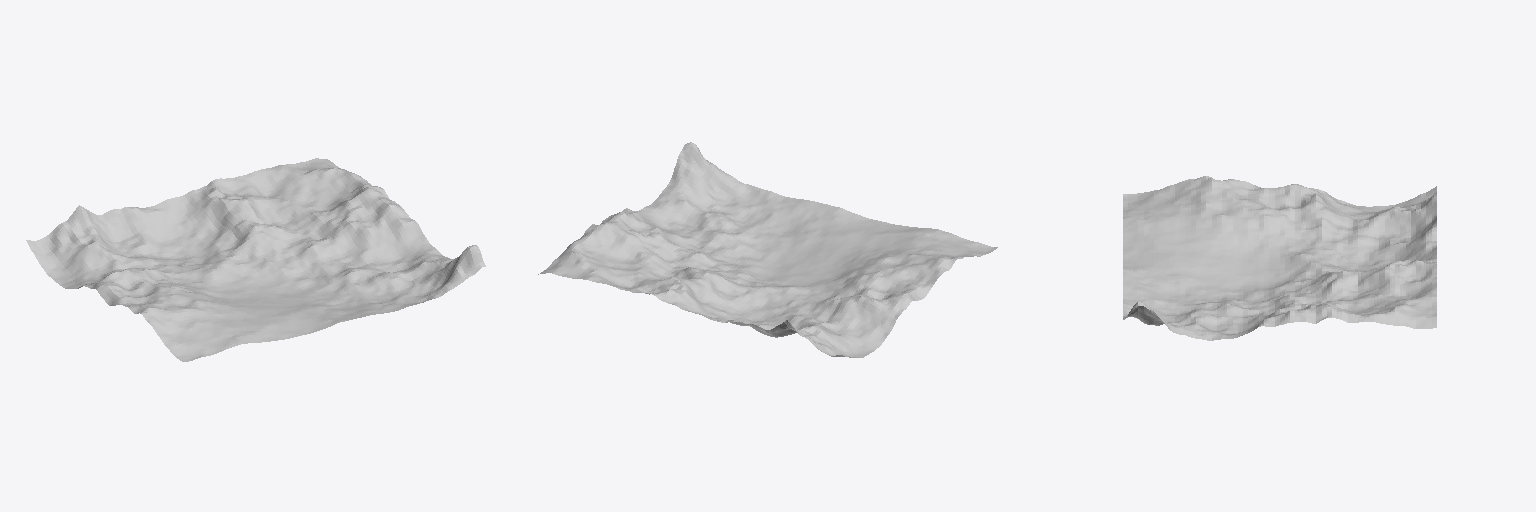
The model's file is ground13.obj.
3 renders of one model, left to right at view 1: azimuth 30°, elevation 25°; view 2: azimuth 150°, elevation 25°; view 3: azimuth 270°, elevation 25°, orthographic.
Parts seen in each view (by area): view 1: ground13; view 2: ground13; view 3: ground13.
Part boxes in pixels (x1,y1,x2,y2): ground13: (26,158,485,361); ground13: (538,142,997,357); ground13: (1123,176,1436,340).
Size of the model in its own units: 88.42 by 14.4 by 79.17.